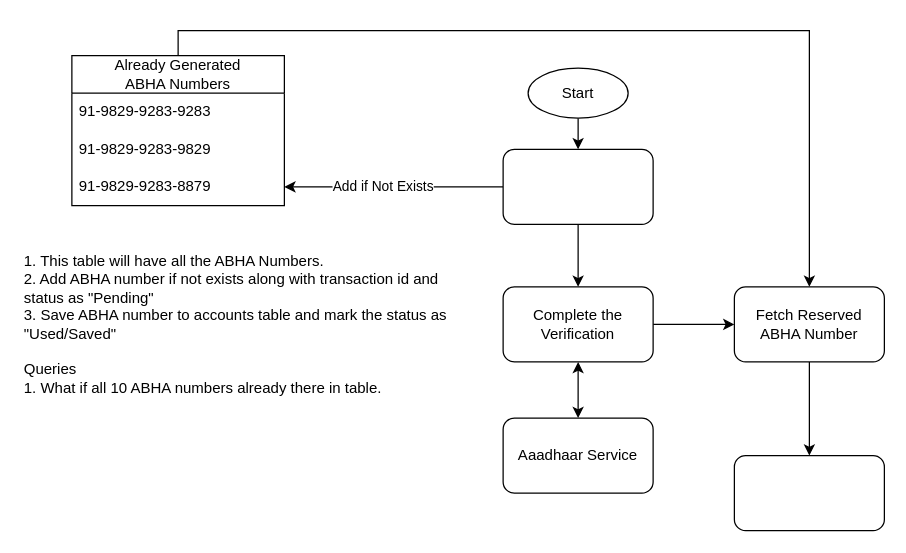
The diagram is 906 pixels wide and 553 high, and some of its shapes have lost their labels. The centre of each missing label's shape, as x and y in pixels:
Generate 10 ABHA Numbers: point (577, 186)
Save Details In Accounts Table: point (808, 492)
